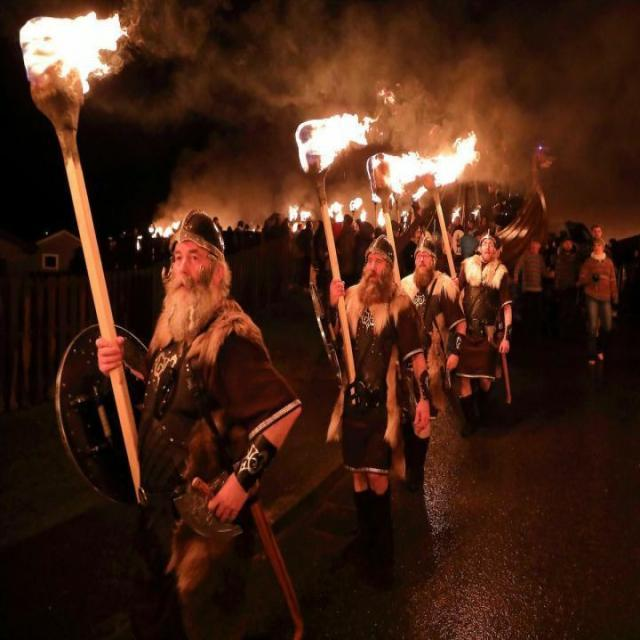Fire: (277, 94, 479, 225), (22, 17, 130, 132)
